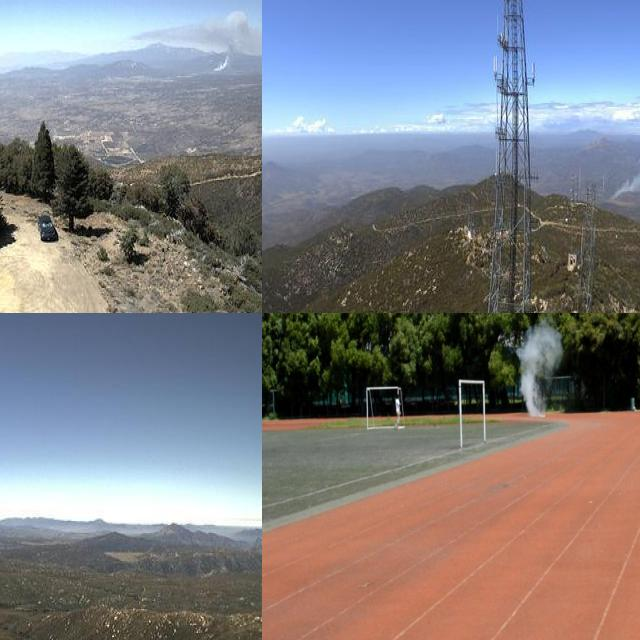smoke: (129, 5, 262, 73), (516, 326, 562, 419), (608, 141, 640, 204)
